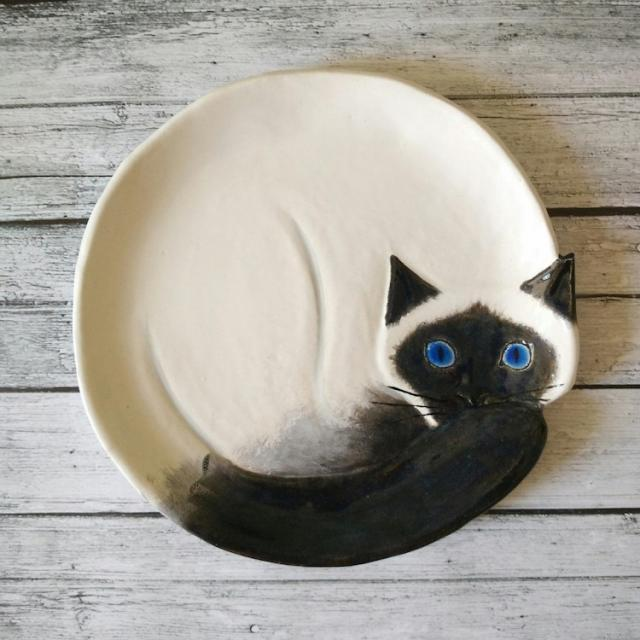non-organic waste: (62, 44, 598, 599)
